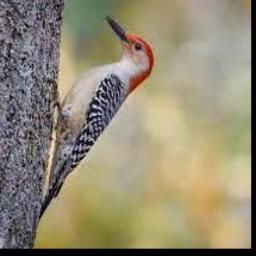Woodpecker: (37, 16, 155, 222)
